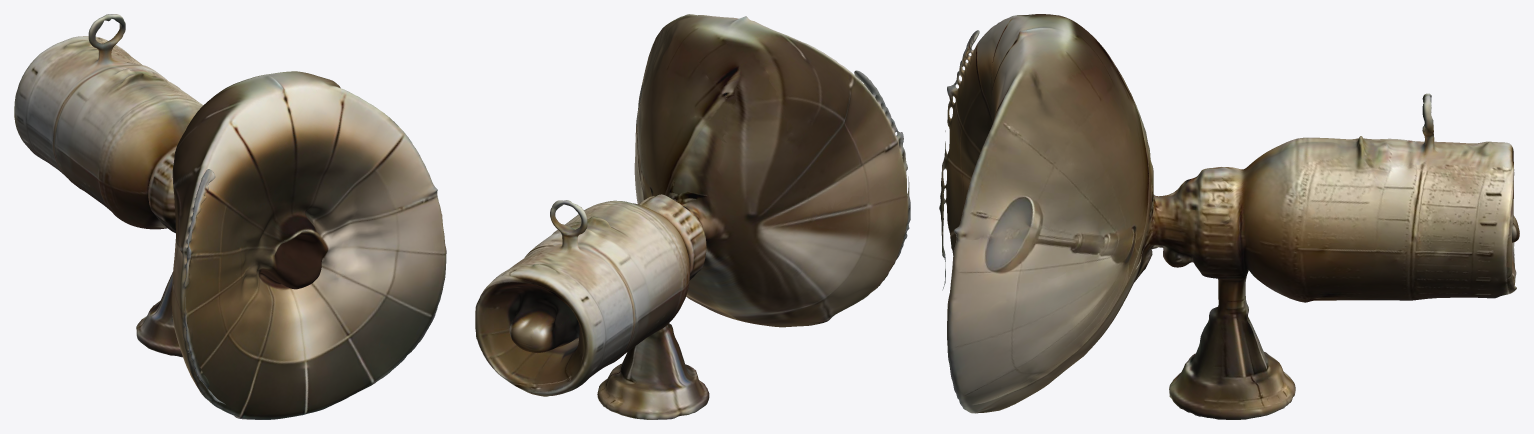
Rendered from voyager.glb.
3 views of the same model, side by side, from view 1: azimuth 30°, elevation 25°; view 2: azimuth 150°, elevation 25°; view 3: azimuth 270°, elevation 25° (orthographic). The views are drawn at different scales.
Parts seen in each view (by area): view 1: tripo_node_540be305-54c9-4369-b422-1cf596c99495; view 2: tripo_node_540be305-54c9-4369-b422-1cf596c99495; view 3: tripo_node_540be305-54c9-4369-b422-1cf596c99495.
Part boxes in pixels (<box>): tripo_node_540be305-54c9-4369-b422-1cf596c99495: <box>14,14,446,419</box>; tripo_node_540be305-54c9-4369-b422-1cf596c99495: <box>475,14,910,419</box>; tripo_node_540be305-54c9-4369-b422-1cf596c99495: <box>939,14,1519,419</box>.
Bounding box in the file's own units: 0.494 × 0.5664 × 0.8125.
Materials: 1 (1 with a texture image).
